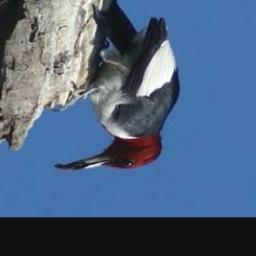Woodpecker: (55, 0, 181, 172)
